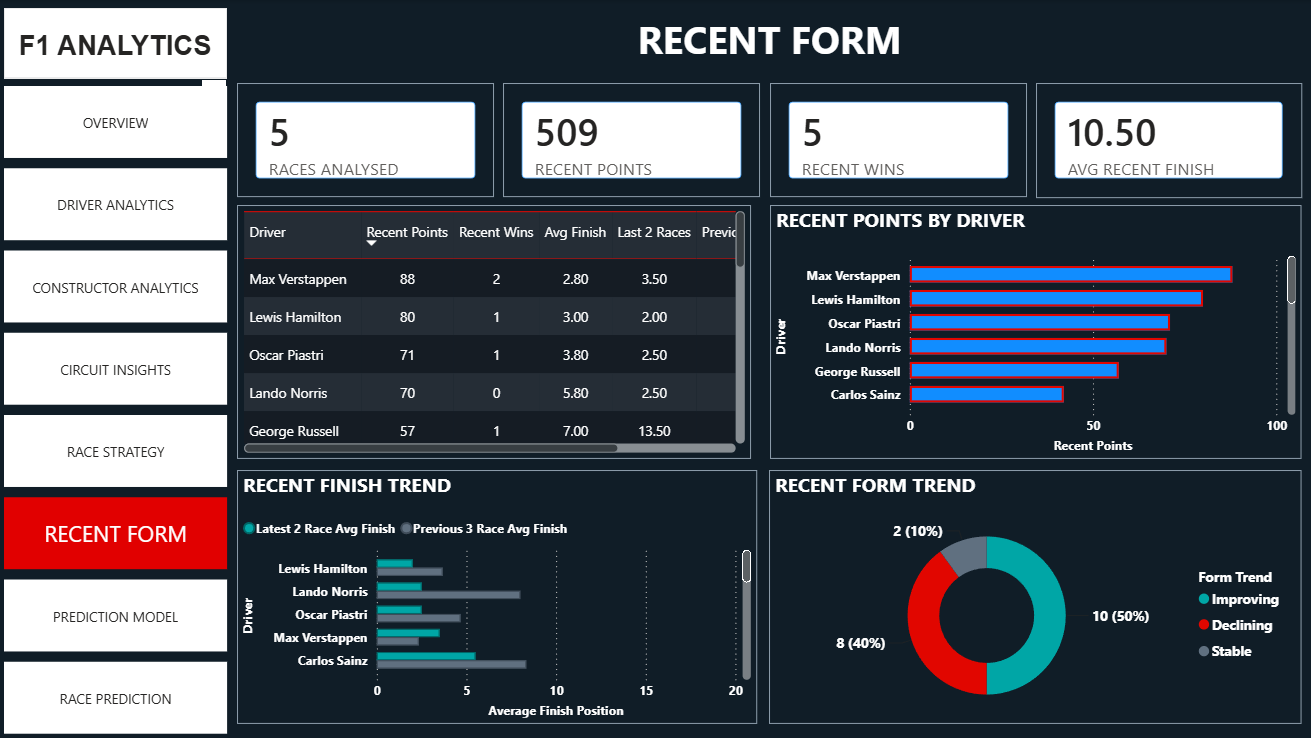

The page's visual inventory and layout, read from the dashboard file:
{"tool":"powerbi","page":{"name":"RECENT FORM","canvas":[1280,720],"ordinal":5},"visuals":[{"type":"tableEx","fields":{"Values":["drivers_clean.driverName","results_clean.Recent Points","results_clean.Recent Wins","results_clean.Average Finish Position","results_clean.Latest 2 Race Avg Finish","results_clean.Previous 3 Race Avg Finish","results_clean.Recent Form Trend"]},"box":[234.4,199.4,499.9,247],"z":0},{"type":"textbox","box":[8.2,8.2,216.4,68.2],"z":1000},{"type":"pageNavigator","title":"              F1 ANALYTICS","box":[8.2,83.6,217.3,635.5],"z":2000},{"type":"textbox","box":[234.5,8.2,1036.4,68.2],"z":3000},{"type":"clusteredBarChart","title":"RECENT FINISH TREND","fields":{"Category":["drivers_clean.driverName"],"Y":["results_clean.Latest 2 Race Avg Finish","results_clean.Previous 3 Race Avg Finish"]},"box":[234.4,457.1,505.8,247.1],"z":4000},{"type":"donutChart","title":"RECENT FORM TREND","fields":{"Y":["Form Trend Categories.Driver Form Trend Count"],"Category":["Form Trend Categories.Form Trend"]},"box":[751.9,457.1,518.4,247.1],"z":5000},{"type":"clusteredBarChart","title":"RECENT POINTS BY DRIVER","fields":{"Category":["drivers_clean.driverName"],"Y":["results_clean.Recent Points"]},"box":[752.8,199.4,517.4,247],"z":6000},{"type":"cardVisual","fields":{"Data":["races_clean.Total Recent Wins"]},"box":[752.6,81,250,111.5],"z":9000},{"type":"cardVisual","fields":{"Data":["races_clean.Total Recent Points"]},"box":[493.5,81,250,111.5],"z":10000},{"type":"cardVisual","fields":{"Data":["races_clean.Recent Races Analysed"]},"box":[234.3,81,250,111.5],"z":11000},{"type":"cardVisual","fields":{"Data":["results_clean.Average Finish Position"]},"box":[1011.6,80.7,258.7,111.9],"z":12000}]}

Visuals, with their boxes in screenshot pixels (x1, y1, x2, y2), scaled from the page's 1280x720 canvas onto the 1311x738 screenshot:
tableEx - drivers_clean.driverName x results_clean.Recent Points: bbox=[240, 204, 752, 458]
textbox: bbox=[8, 8, 230, 78]
"              F1 ANALYTICS" pageNavigator: bbox=[8, 86, 231, 737]
textbox: bbox=[240, 8, 1302, 78]
"RECENT FINISH TREND" clusteredBarChart: bbox=[240, 469, 758, 722]
"RECENT FORM TREND" donutChart: bbox=[770, 469, 1301, 722]
"RECENT POINTS BY DRIVER" clusteredBarChart: bbox=[771, 204, 1301, 458]
cardVisual - races_clean.Total Recent Wins: bbox=[771, 83, 1027, 197]
cardVisual - races_clean.Total Recent Points: bbox=[505, 83, 762, 197]
cardVisual - races_clean.Recent Races Analysed: bbox=[240, 83, 496, 197]
cardVisual - results_clean.Average Finish Position: bbox=[1036, 83, 1301, 197]
